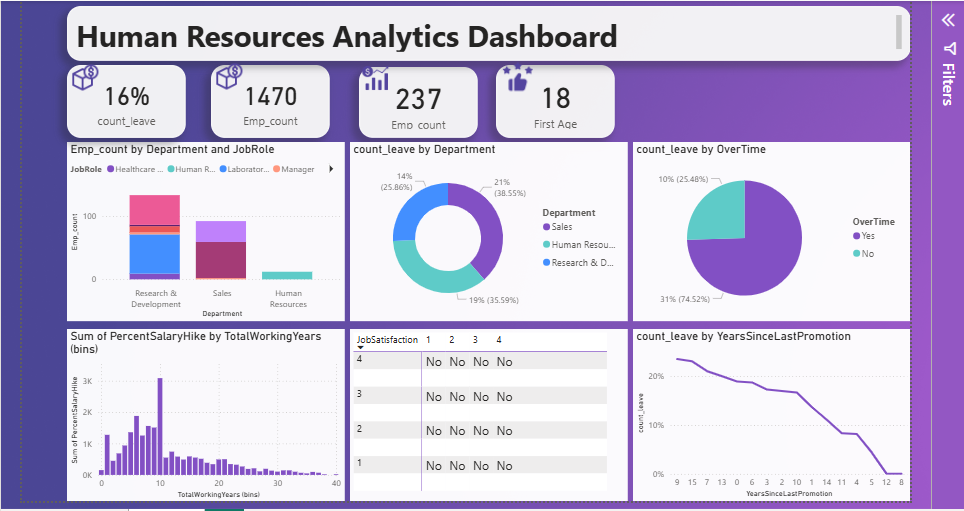

Layout of this report page (visuals, bound fields, positions):
{"tool":"powerbi","page":{"name":"Page 1","canvas":[1280,720],"ordinal":0},"visuals":[{"type":"card","fields":{"Values":["HR_Analytics.Emp_count"]},"box":[272.2,92.2,171.4,105.1],"z":1000},{"type":"card","fields":{"Values":["Min(HR_Analytics.Age)"]},"box":[682.6,92.2,171.4,105.1],"z":3000},{"type":"card","fields":{"Values":["HR_Analytics.Emp_count"]},"box":[485.3,95,171.4,102.2],"z":4000},{"type":"columnChart","fields":{"Y":["HR_Analytics.Emp_count"],"Category":["HR_Analytics.Department"],"Series":["HR_Analytics.JobRole"]},"box":[64.8,203,400.3,257.8],"z":6000},{"type":"donutChart","fields":{"Y":["HR_Analytics.count_leave"],"Category":["HR_Analytics.Department"]},"box":[472.3,203,400.3,257.8],"z":7000},{"type":"pieChart","fields":{"Y":["HR_Analytics.count_leave"],"Category":["HR_Analytics.OverTime"]},"box":[879.8,203,400.3,257.8],"z":8000},{"type":"clusteredColumnChart","fields":{"Category":["HR_Analytics.TotalWorkingYears (bins)"],"Y":["Sum(HR_Analytics.PercentSalaryHike)"]},"box":[64.8,472.3,400,249.1],"z":9000},{"type":"lineChart","fields":{"Category":["HR_Analytics.YearsSinceLastPromotion"],"Y":["HR_Analytics.count_leave"]},"box":[879.8,472.3,400.3,247.7],"z":10000},{"type":"pivotTable","fields":{"Rows":["HR_Analytics.JobSatisfaction"],"Columns":["HR_Analytics.EnvironmentSatisfaction"],"Values":["Min(HR_Analytics.Attrition)"]},"box":[472.3,472.3,400.3,247.7],"z":11000},{"type":"textbox","box":[64.8,7.2,1215.4,79.2],"z":12000},{"type":"card","fields":{"Values":["HR_Analytics.count_leave"]},"box":[64.8,92.2,171.4,105.1],"z":12500},{"type":"image","box":[672.5,79.2,82.1,59],"z":12501},{"type":"image","box":[64.8,80.6,53.3,59],"z":12502},{"type":"image","box":[465.1,86.4,86.4,49],"z":12503},{"type":"image","box":[272.2,79.2,53.3,59],"z":12504}]}

Visuals, with their boxes in screenshot pixels (x1, y1, x2, y2):
card - HR_Analytics.Emp_count: pyautogui.locateOnScreen(209, 62, 329, 136)
card - Min(HR_Analytics.Age): pyautogui.locateOnScreen(496, 62, 617, 136)
card - HR_Analytics.Emp_count: pyautogui.locateOnScreen(358, 64, 478, 136)
columnChart - HR_Analytics.Emp_count x HR_Analytics.Department: pyautogui.locateOnScreen(63, 140, 344, 321)
donutChart - HR_Analytics.count_leave x HR_Analytics.Department: pyautogui.locateOnScreen(349, 140, 630, 321)
pieChart - HR_Analytics.count_leave x HR_Analytics.OverTime: pyautogui.locateOnScreen(635, 140, 915, 321)
clusteredColumnChart - HR_Analytics.TotalWorkingYears (bins) x Sum(HR_Analytics.PercentSalaryHike): pyautogui.locateOnScreen(63, 329, 344, 504)
lineChart - HR_Analytics.YearsSinceLastPromotion x HR_Analytics.count_leave: pyautogui.locateOnScreen(635, 329, 915, 503)
pivotTable - HR_Analytics.JobSatisfaction x HR_Analytics.EnvironmentSatisfaction: pyautogui.locateOnScreen(349, 329, 630, 503)
textbox: pyautogui.locateOnScreen(63, 3, 916, 58)
card - HR_Analytics.count_leave: pyautogui.locateOnScreen(63, 62, 183, 136)
image: pyautogui.locateOnScreen(489, 53, 547, 94)
image: pyautogui.locateOnScreen(63, 54, 100, 95)
image: pyautogui.locateOnScreen(344, 58, 404, 92)
image: pyautogui.locateOnScreen(209, 53, 246, 94)
